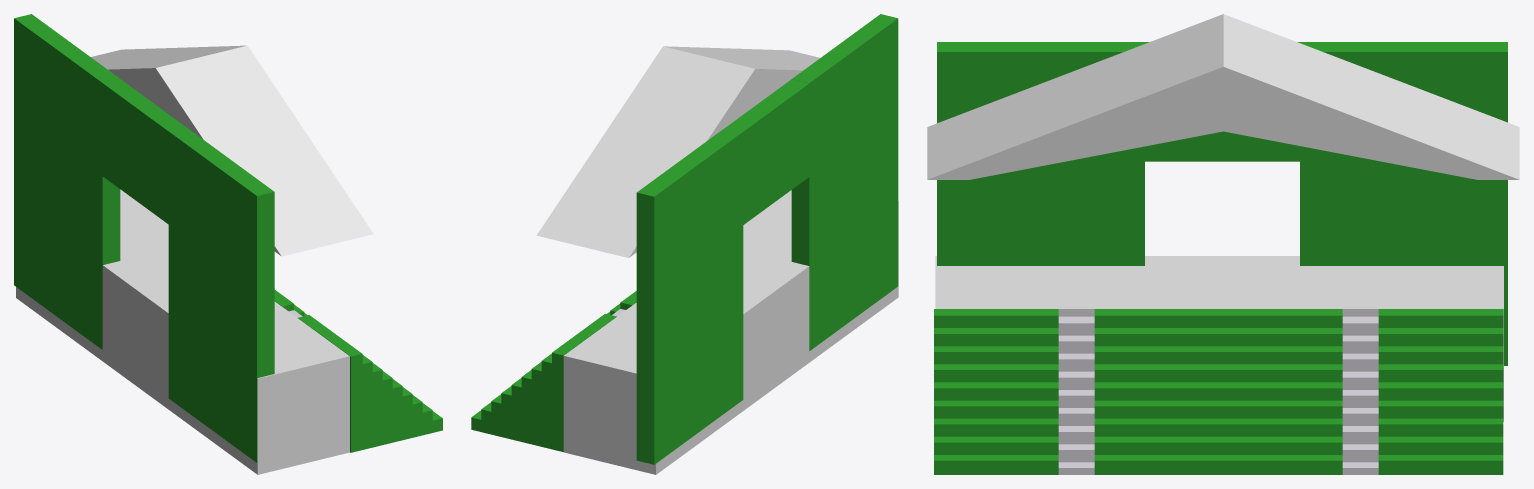
File: tribune.fbx
3 renders of one model, left to right at view 1: azimuth 30°, elevation 25°; view 2: azimuth 150°, elevation 25°; view 3: azimuth 270°, elevation 25°, orthographic. The views are drawn at different scales.
Parts seen in each view (by area): view 1: Cube.008, Cube.007, Cube.006, Cube.009, Cube.010, Cube; view 2: Cube.007, Cube.008, Cube.006, Cube.009, Cube.010, Cube.005; view 3: Cube.009, Cube.007, Cube.008, Cube.006, Cube.005, Cube.003, Cube, Cube.002, Cube.001, Cube.004, Cube.010.
Part boxes in pixels (box(x1,y1,x2,y2)): Cube.008: box(168, 127, 274, 462); Cube.007: box(14, 14, 120, 349); Cube.006: box(16, 189, 349, 474); Cube.009: box(91, 45, 373, 256); Cube.010: box(102, 79, 185, 233); Cube: box(298, 315, 442, 452); Cube.007: box(636, 127, 743, 464); Cube.008: box(791, 14, 898, 350); Cube.006: box(563, 190, 898, 474); Cube.009: box(536, 46, 819, 257); Cube.010: box(726, 79, 822, 224); Cube.005: box(471, 313, 616, 451); Cube.009: box(927, 14, 1519, 179); Cube.007: box(1300, 42, 1507, 365); Cube.008: box(937, 42, 1144, 265); Cube.006: box(935, 256, 1503, 421); Cube.005: box(1378, 309, 1503, 474); Cube.003: box(1217, 309, 1342, 474); Cube: box(934, 309, 1058, 474); Cube.002: box(1094, 309, 1219, 474); Cube.001: box(1058, 316, 1094, 474); Cube.004: box(1342, 316, 1378, 474); Cube.010: box(1113, 42, 1321, 161).
Bounding box in the file's own units: 401 × 649 × 949.
